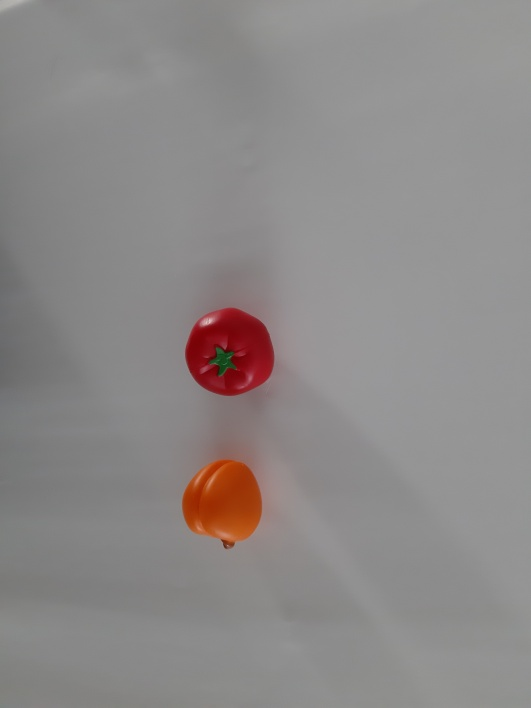apricot: (166, 448, 279, 559)
tomato: (164, 296, 291, 407)
